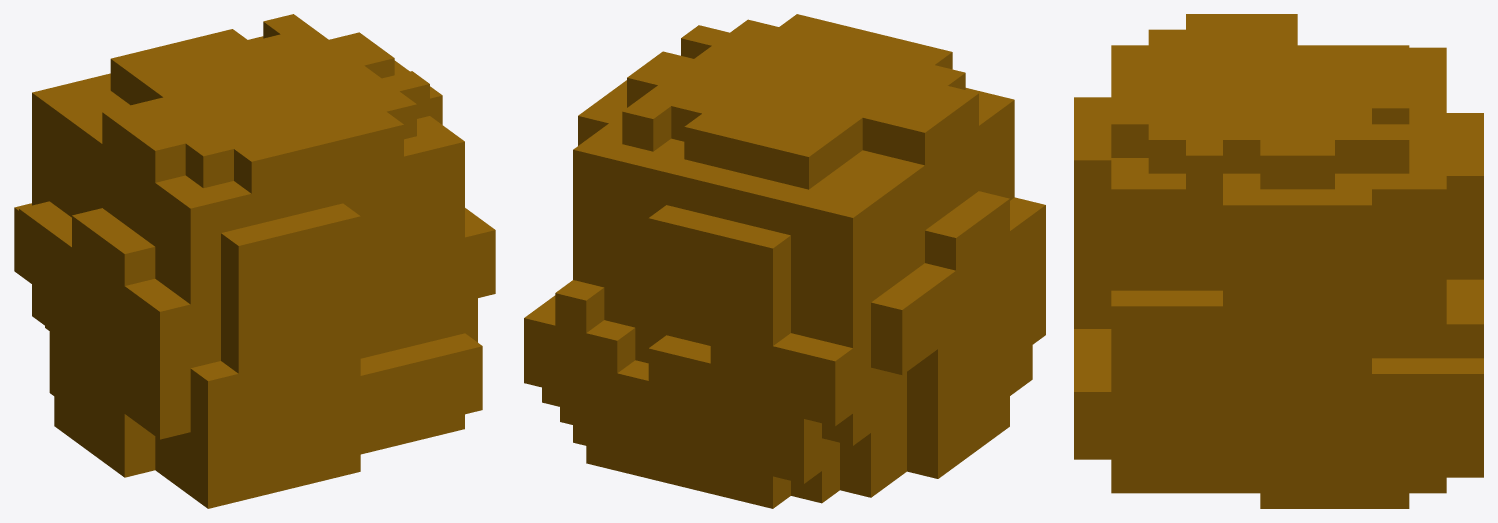
File: obs-0-Kamen-1-Kamen.obj
3 renders of one model, left to right at view 1: azimuth 30°, elevation 25°; view 2: azimuth 150°, elevation 25°; view 3: azimuth 270°, elevation 25°, orthographic. The views are drawn at different scales.
Visible parts, largest first — view 1: Kamen; view 2: Kamen; view 3: Kamen.
Part boxes in pixels (x1,y1,x2,y2): Kamen: [14, 14, 495, 508]; Kamen: [524, 14, 1045, 508]; Kamen: [1074, 14, 1483, 508].
Bounding box in the file's own units: 1.1 × 1 × 1.1.
Materials: 1 (1 with a texture image).
